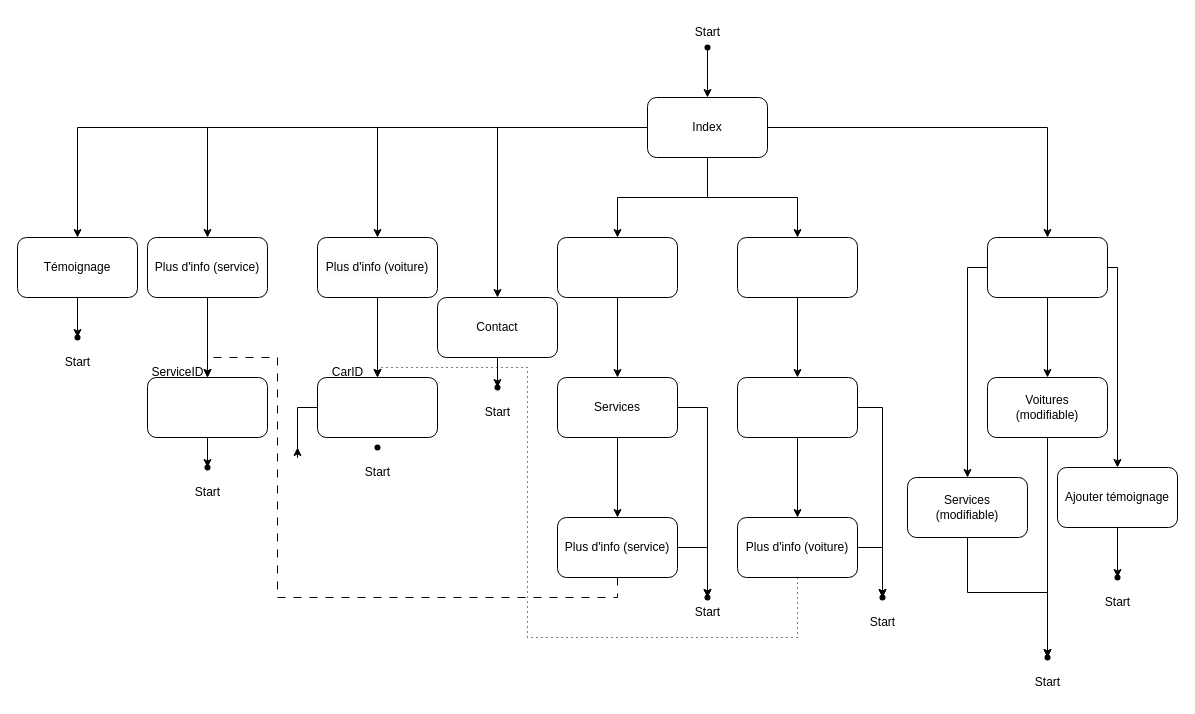
Some shapes in this 1195 by 714 pixel diagram are drawn without their labels. Here are the shapes that lost their labels. From the top down, the centre of each, then its label:
At pixel 617 267: "Voir plus (service)".
At pixel 797 267: "Voir plus (voiture)".
At pixel 1047 267: "Se Connecter".
At pixel 207 407: "Contact (service)".
At pixel 377 407: "Contact (voiture)".
At pixel 797 407: "Voitures".
